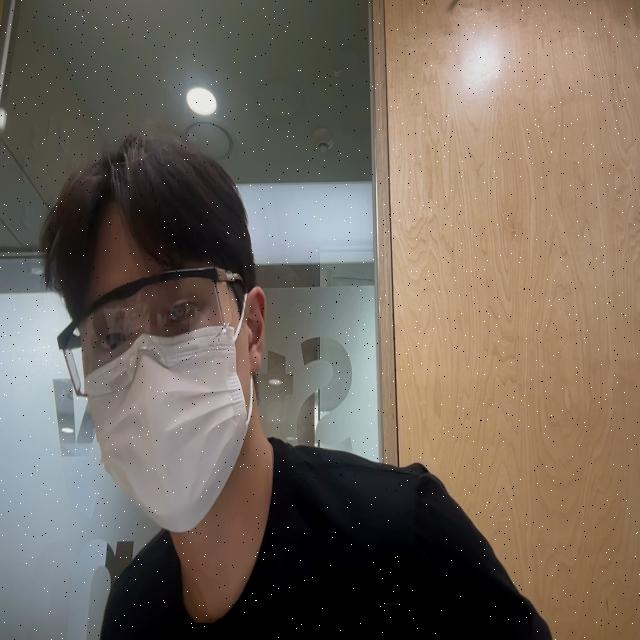goggles_on: (80, 254, 253, 532), (54, 252, 251, 404)
